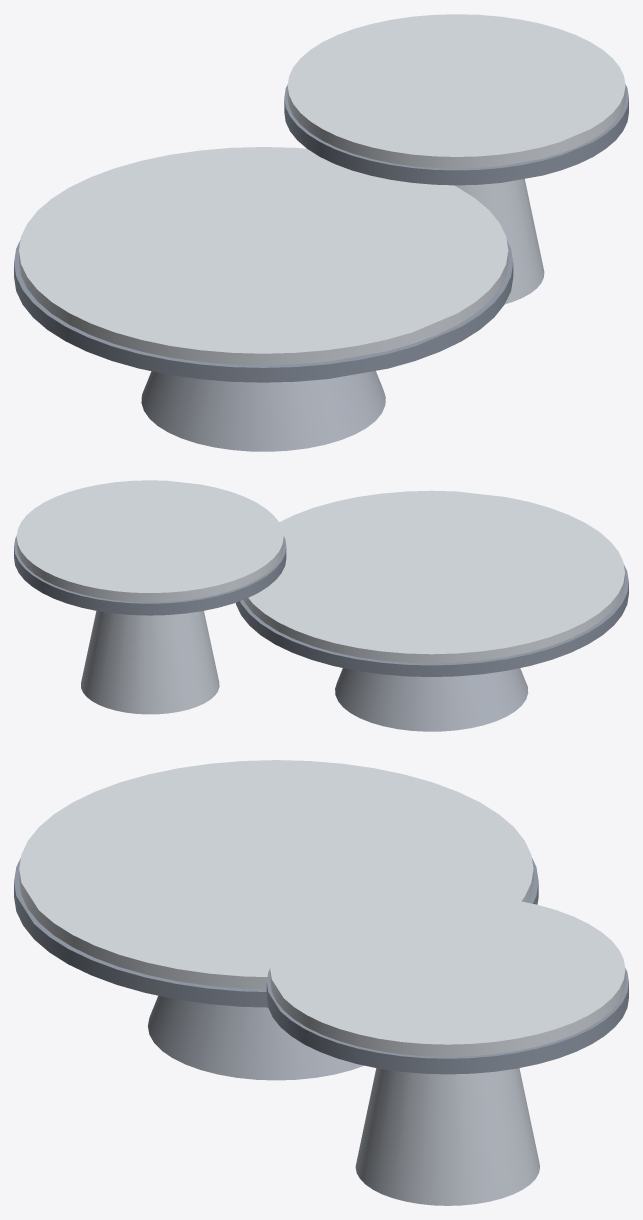
File: coffeetable-lite.glb
3 renders of one model, top to bottom at view 1: azimuth 30°, elevation 25°; view 2: azimuth 150°, elevation 25°; view 3: azimuth 270°, elevation 25°, orthographic. The views are drawn at different scales.
Parts seen in each view (by area): view 1: coffeetable; view 2: coffeetable; view 3: coffeetable.
Boxes of the visible parts, x1,y1,x2,y2 form: coffeetable: [14, 14, 628, 451]; coffeetable: [14, 480, 628, 731]; coffeetable: [14, 760, 628, 1205].
Bounding box in the file's own units: 1.59 × 0.4445 × 1.26.
